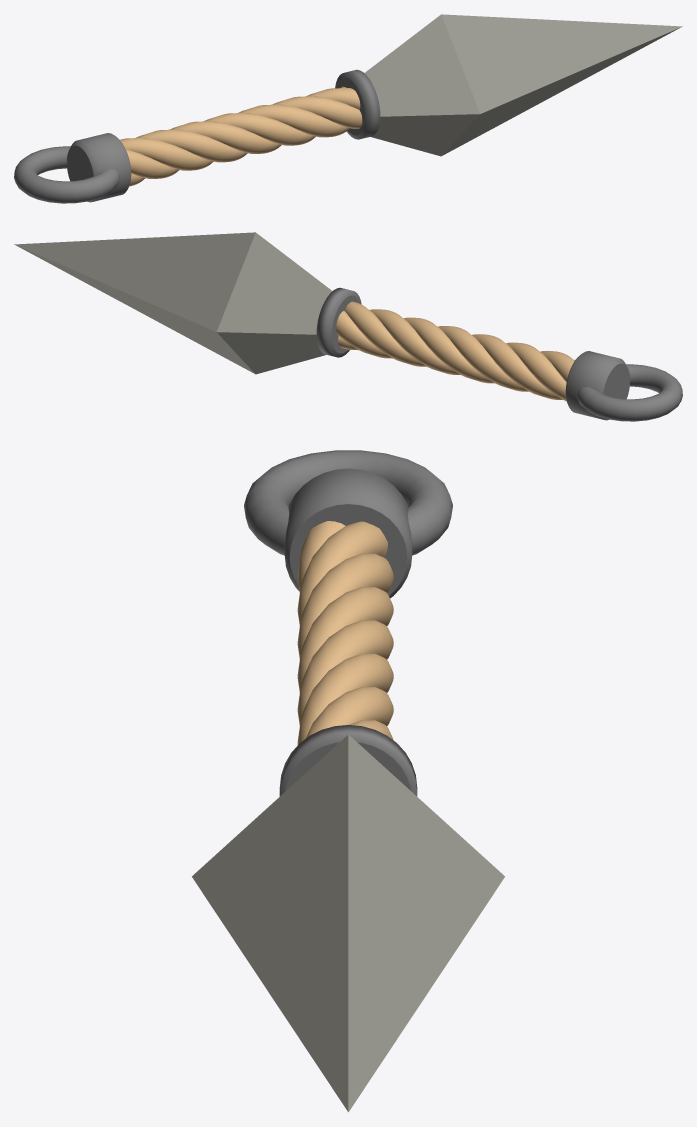
The model's file is kunai.fbx.
3 views of the same model, one above another, from view 1: azimuth 30°, elevation 25°; view 2: azimuth 150°, elevation 25°; view 3: azimuth 270°, elevation 25° (orthographic). The views are drawn at different scales.
Visible parts, largest first — view 1: Cube, Circle.003, Torus.001, Cylinder.001, Cylinder; view 2: Cube, Circle.003, Torus.001, Cylinder.001, Cylinder; view 3: Cube, Circle.003, Torus.001, Cylinder.001, Cylinder.
Part boxes in pixels (x1=…): Cube: x1=364, y1=14, x2=682, y2=156; Circle.003: x1=120, y1=86, x2=362, y2=186; Torus.001: x1=14, y1=146, x2=120, y2=203; Cylinder.001: x1=67, y1=133, x2=131, y2=202; Cylinder: x1=335, y1=69, x2=380, y2=139; Cube: x1=14, y1=232, x2=332, y2=374; Circle.003: x1=336, y1=301, x2=575, y2=401; Torus.001: x1=576, y1=364, x2=682, y2=421; Cylinder.001: x1=565, y1=351, x2=629, y2=420; Cylinder: x1=316, y1=287, x2=361, y2=357; Cube: x1=192, y1=734, x2=504, y2=1112; Circle.003: x1=297, y1=521, x2=393, y2=744; Torus.001: x1=244, y1=450, x2=452, y2=555; Cylinder.001: x1=284, y1=468, x2=412, y2=598; Cylinder: x1=279, y1=725, x2=417, y2=796.
Bounding box in the file's own units: 1809 × 371 × 371.
